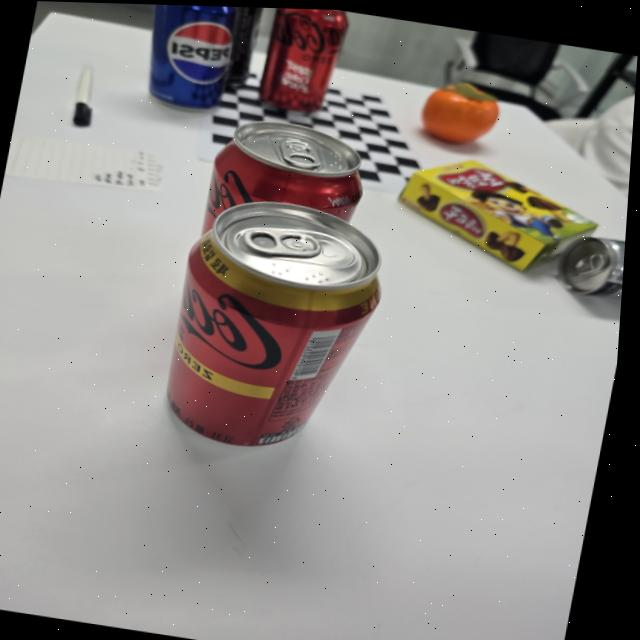can_coke_decaf: (162, 202, 387, 450)
can_coke_zero: (203, 120, 359, 231), (256, 8, 347, 109)
can_pepsi: (149, 5, 242, 108)
